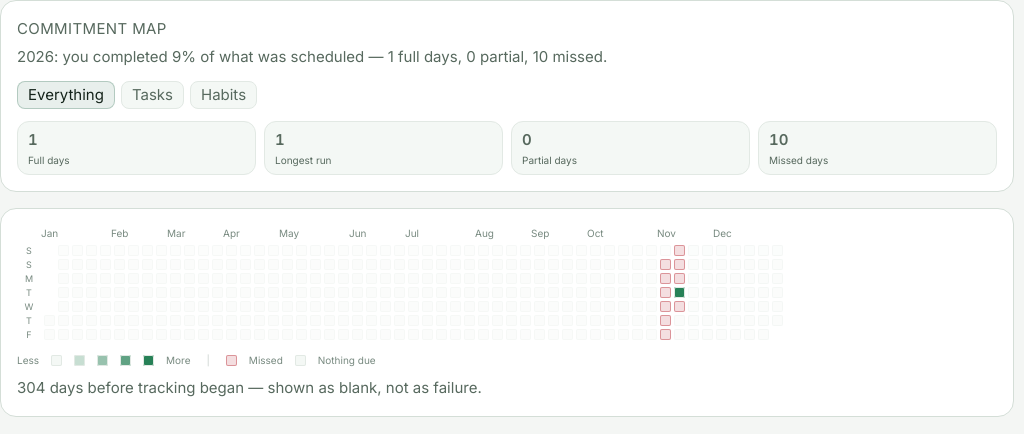
Scenario: CommitmentMap — scope › narrows the map to one scheduled domain
Click the button "Habits": [224, 95] box [190, 81, 257, 109]
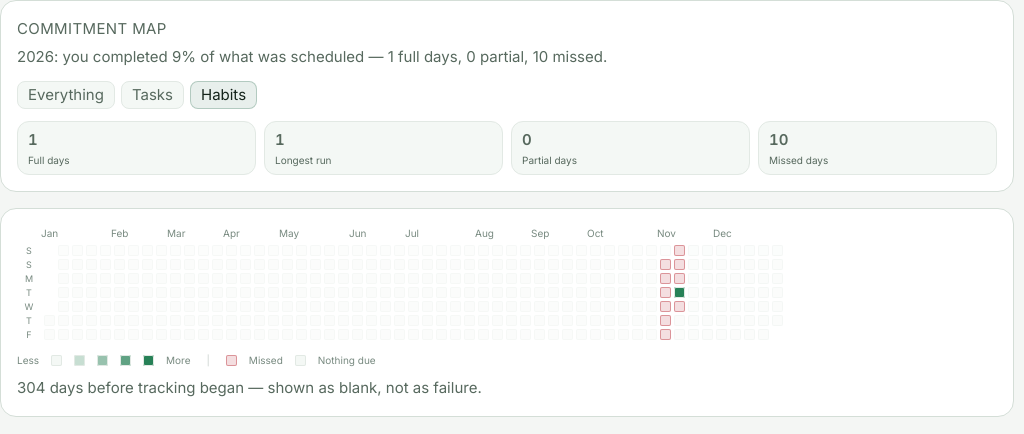
Now the button "Habits" is pressed, box [190, 81, 257, 109]
Now the button "Everything" is not pressed, box [17, 81, 115, 109]
